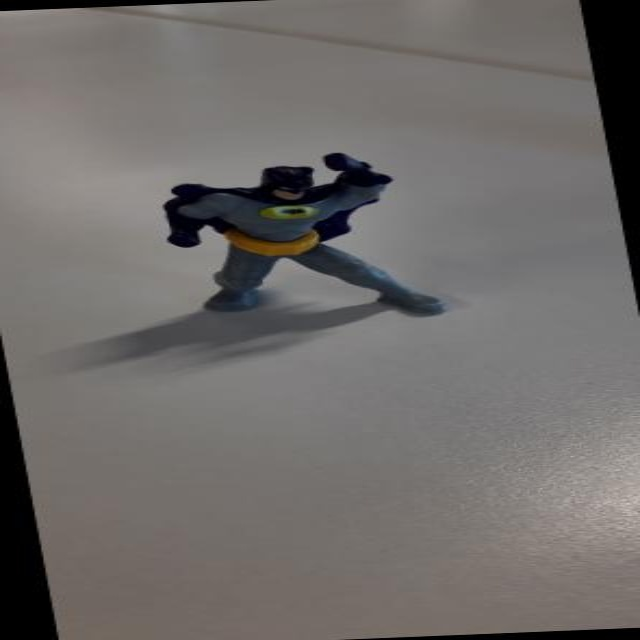Batman: (128, 152, 469, 340)
